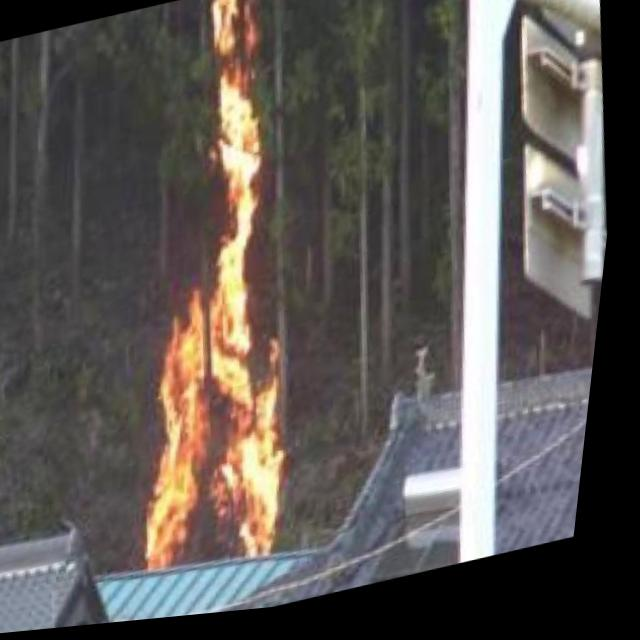Fire: (79, 0, 354, 589)
